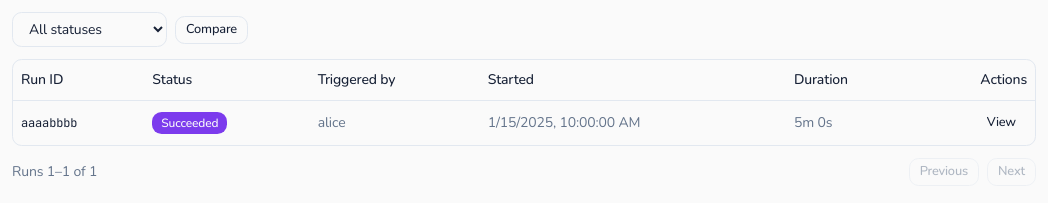
Test: RunList › compare mode › toggles compare mode on and off via the Compare / Cancel Compare button
The width and height of the screenshot is (1048, 203).
Expected: the text "aaaabbbb" is shown, [21,114,77,130]
# Enter compare mode.
Click the button "Compare": (212, 30) [175,16,248,44]
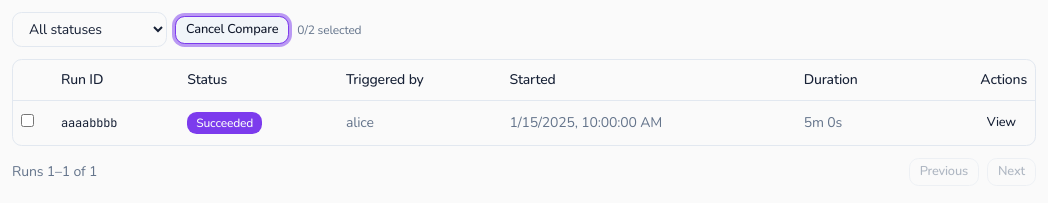
Expected: the button "Cancel Compare" is shown
Expected: the checkbox is shown, [21,114,34,126]
# Exit compare mode.
Click the button "Cancel Compare": (232, 30) [175,16,289,44]
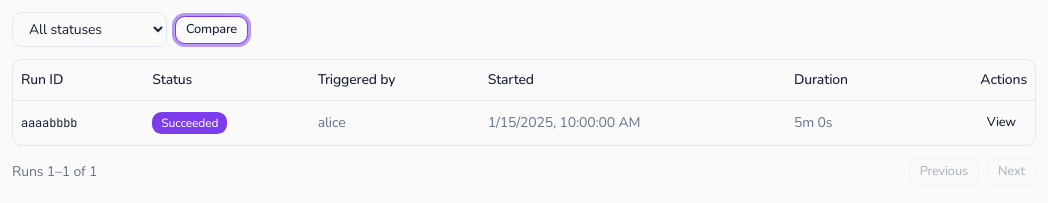
Expected: the button "Compare" is shown, [175,16,248,44]
Expected: the checkbox is gone
